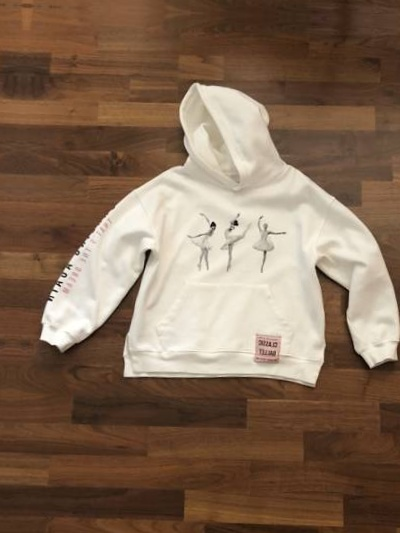Hoodie: (10, 62, 400, 414), (0, 44, 24, 396)
